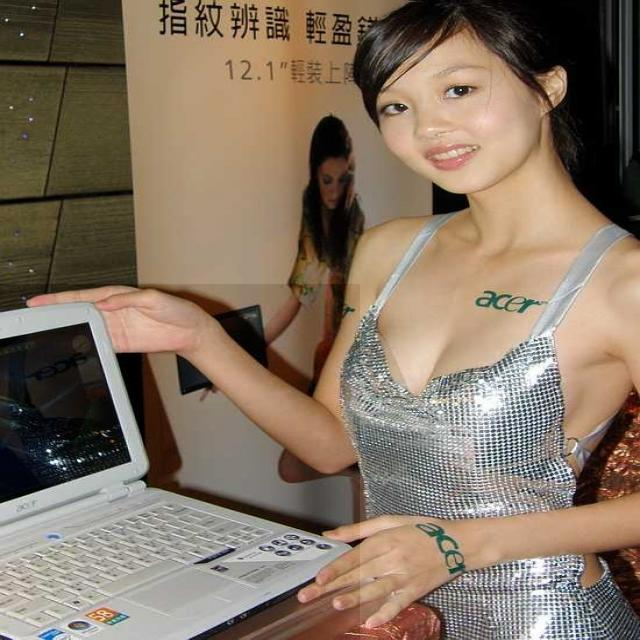-keyboard-: (0, 284, 360, 640)
